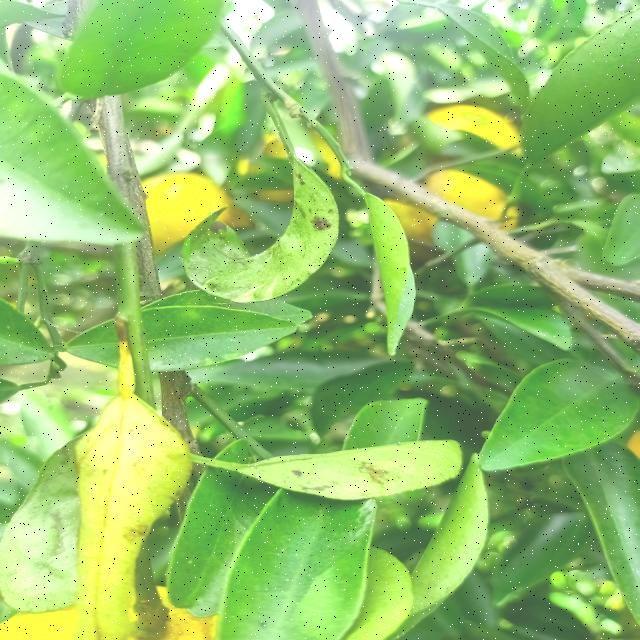melanose: (47, 393, 189, 640), (171, 158, 335, 307), (248, 439, 440, 501)
